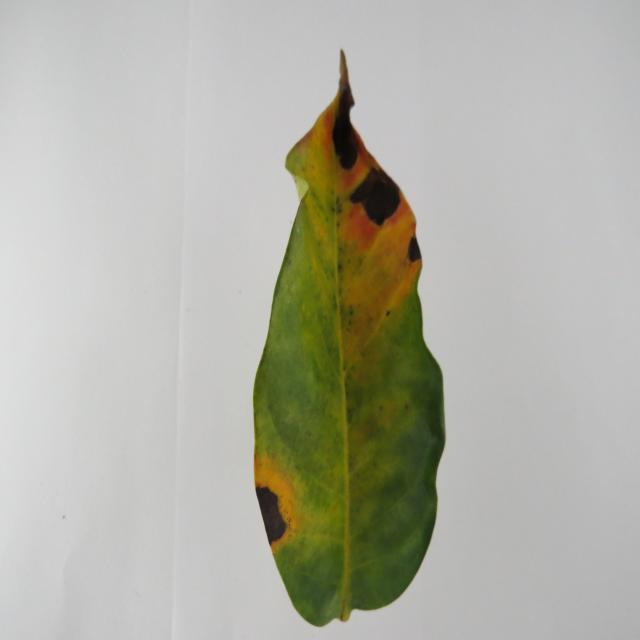DeficienciaNutricional-Fosforo: (254, 52, 445, 627)
